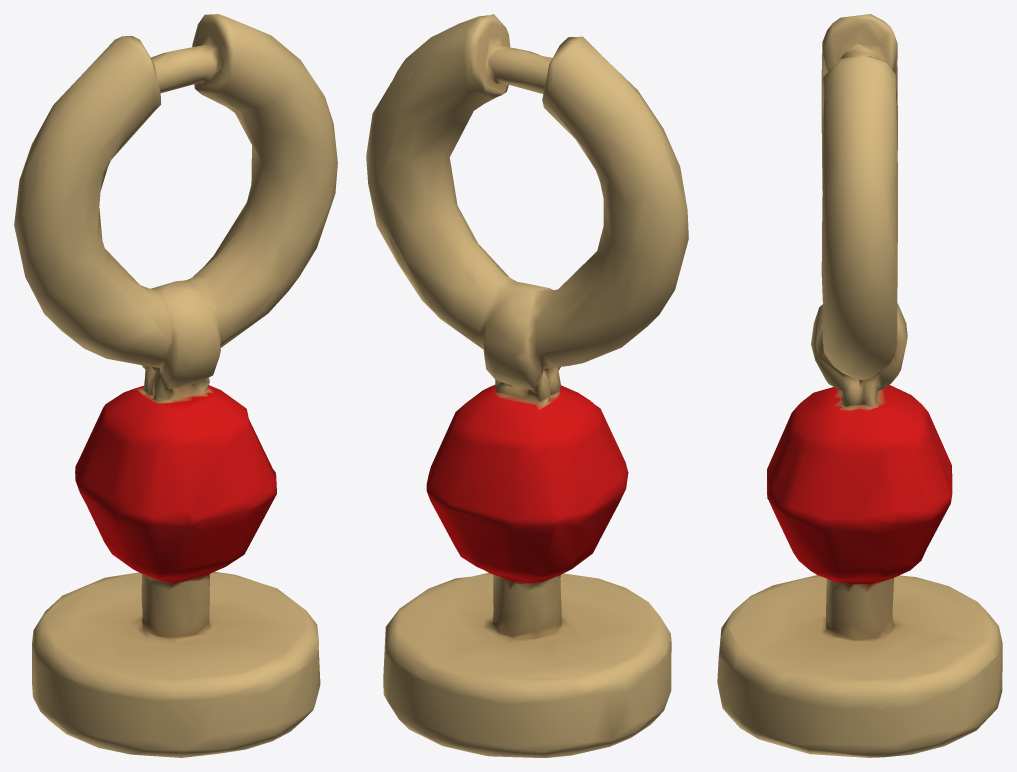
Rendered from gen3d-earring-lod0.glb.
The picture shows the model from 3 angles, left to right: view 1: azimuth 30°, elevation 25°; view 2: azimuth 150°, elevation 25°; view 3: azimuth 270°, elevation 25°; orthographic projection.
Parts seen in each view (by area): view 1: part_0; view 2: part_0; view 3: part_0.
Boxes of the visible parts, box(x1,y1,x2,y2) form: part_0: box(14, 14, 337, 757); part_0: box(366, 14, 688, 757); part_0: box(717, 14, 1002, 757).
Bounding box in the file's own units: 0.4615 × 0.9999 × 0.3673.
